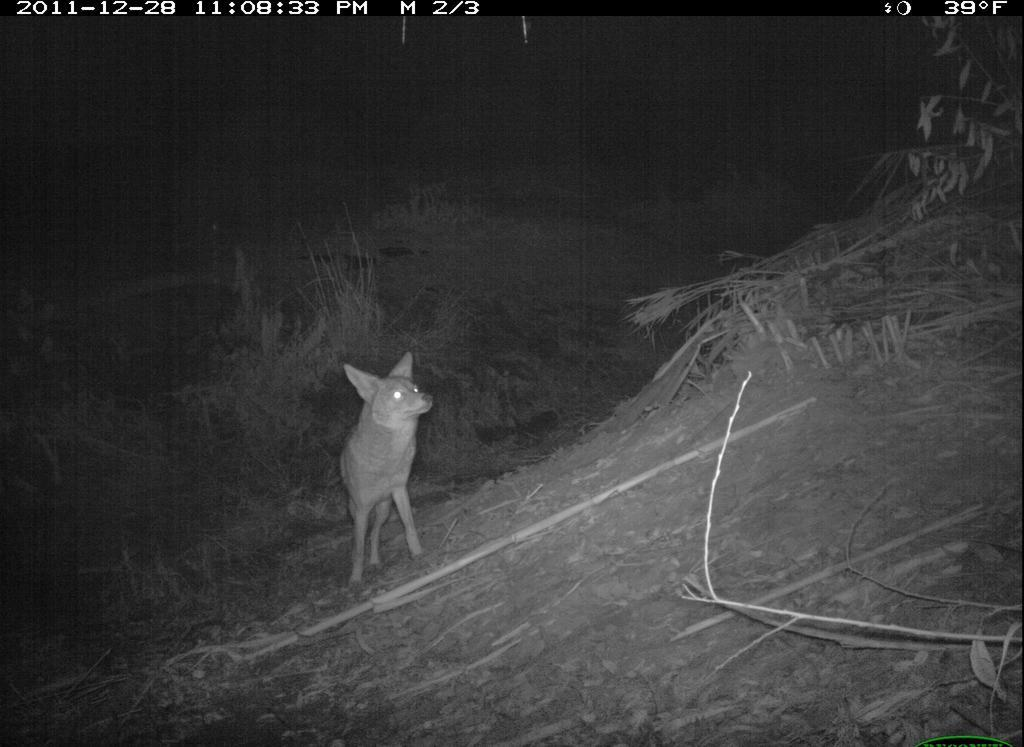coyote: (326, 342, 441, 594)
